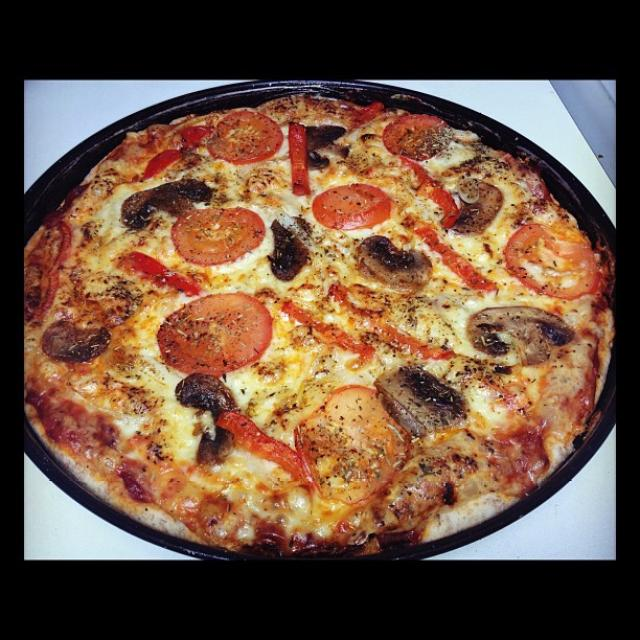mushrooms: (171, 372, 239, 466), (374, 364, 463, 433), (119, 178, 217, 238), (462, 297, 566, 350), (358, 231, 432, 292), (260, 210, 317, 279), (448, 173, 504, 241), (37, 316, 111, 362), (299, 117, 356, 165)
peppers: (220, 406, 322, 484), (396, 208, 486, 293), (280, 287, 370, 360), (395, 150, 460, 230), (360, 308, 451, 359), (122, 244, 204, 295), (284, 115, 321, 194), (134, 145, 188, 174)
pizza: (24, 96, 614, 559)
